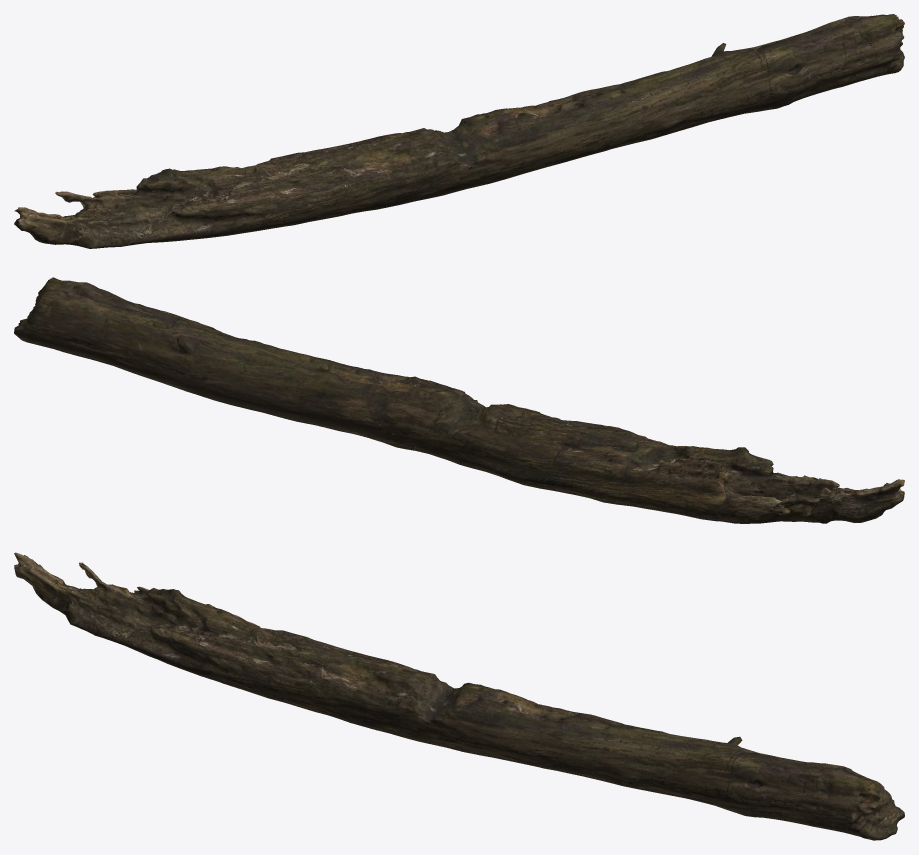
Rendered from grounded-deadwood-clear.glb.
3 views of the same model, one above another, from view 1: azimuth 30°, elevation 25°; view 2: azimuth 150°, elevation 25°; view 3: azimuth 330°, elevation 25° (orthographic).
Parts seen in each view (by area): view 1: grounded-deadwood-clear runtime mesh; view 2: grounded-deadwood-clear runtime mesh; view 3: grounded-deadwood-clear runtime mesh.
Boxes of the visible parts, x1,y1,x2,y2 form: grounded-deadwood-clear runtime mesh: [14, 14, 904, 248]; grounded-deadwood-clear runtime mesh: [14, 277, 904, 523]; grounded-deadwood-clear runtime mesh: [14, 552, 904, 840].
Bounding box in the file's own units: 2.1 × 0.1991 × 0.1904.
1 material, 1 textured.
